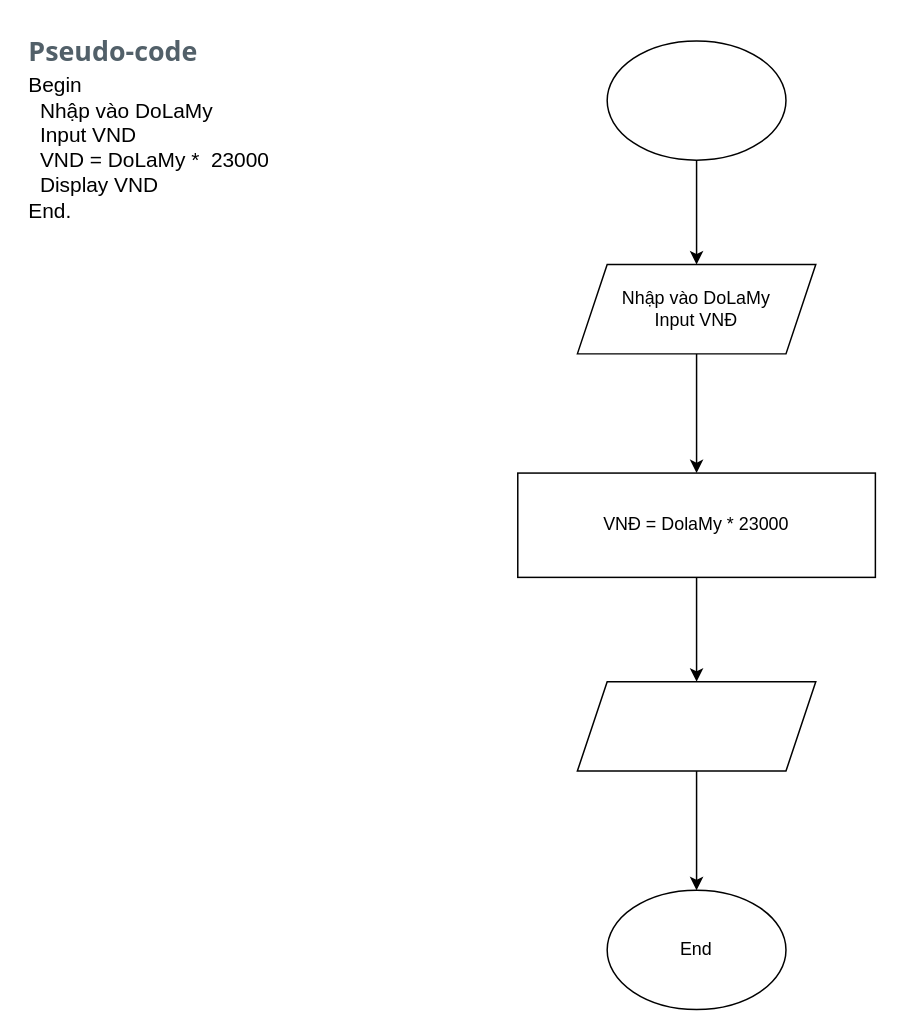
Some shapes in this 901 by 1036 pixel diagram are drawn without their labels. The centre of each missing label's shape, as x and y in pixels:
"Begin" goes at (x=696, y=99).
"Display VNĐ" goes at (x=696, y=725).
